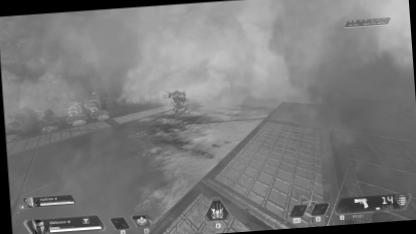Target: (166, 88, 190, 116)
